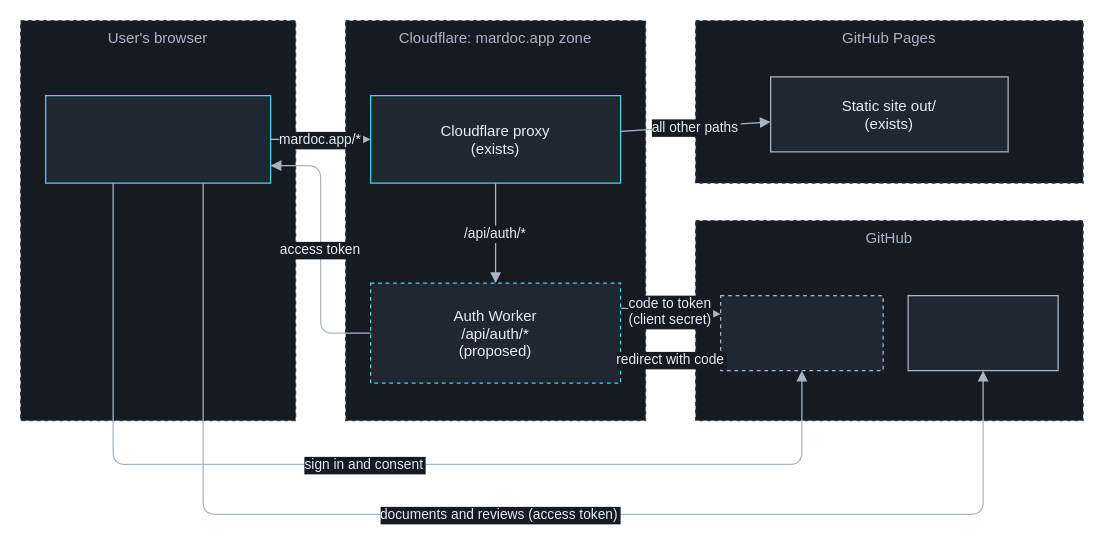
Image size: 1104x545. Some labels were removed from this diagram. Each missing label, with the centre of its shape:
"GitHub API (exists)" goes at [982,332].
"GitHub App sign-in" goes at [801,332].
"MarDoc app (exists; sign-in to build)" goes at [157,138].
